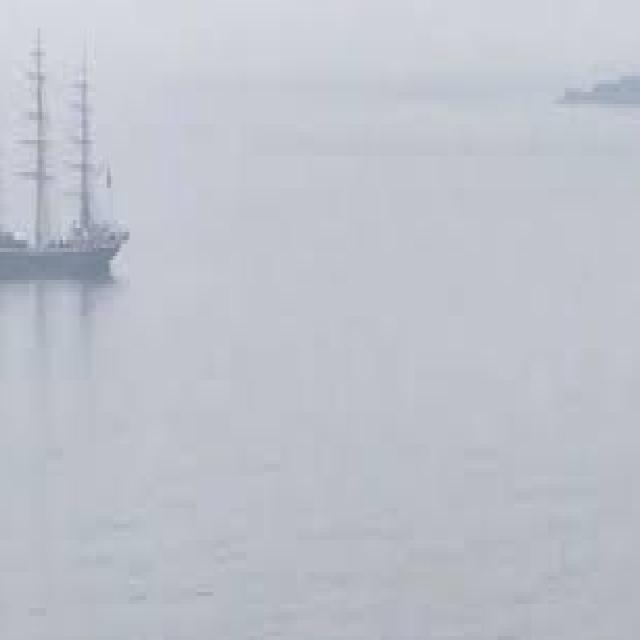fishing boat: (0, 40, 144, 292)
